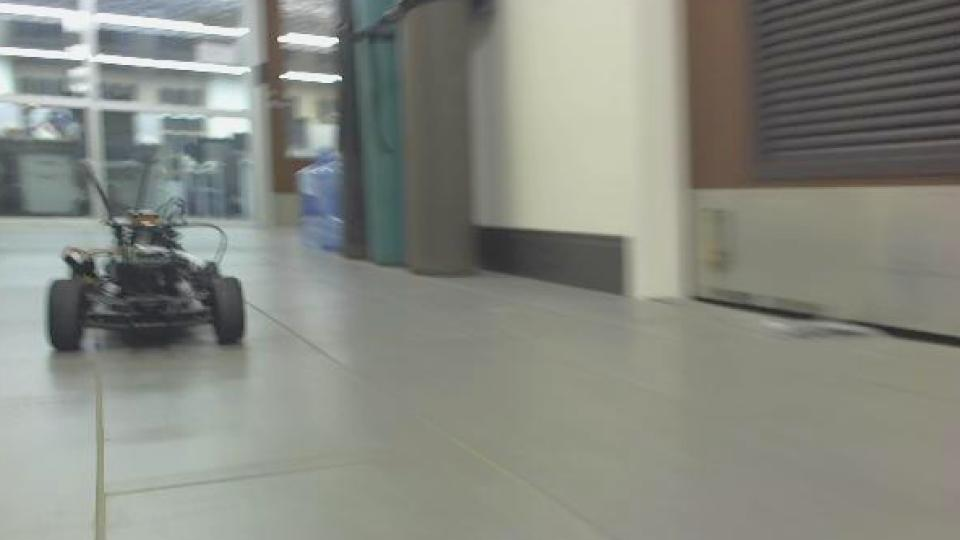car: (41, 153, 248, 354)
